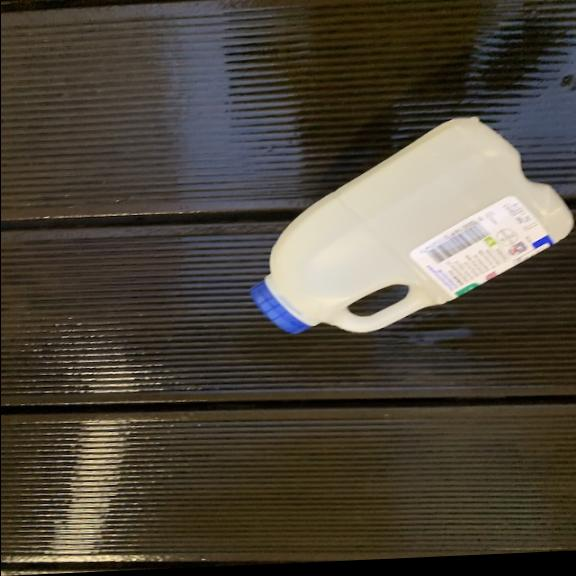Plastik: (244, 107, 572, 347)
